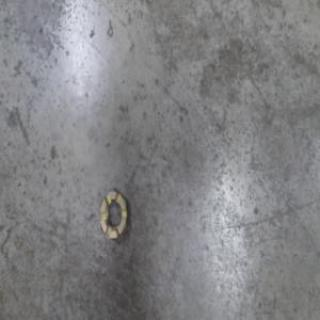Nuttrack_idkeyframe: (97, 186, 128, 242)
